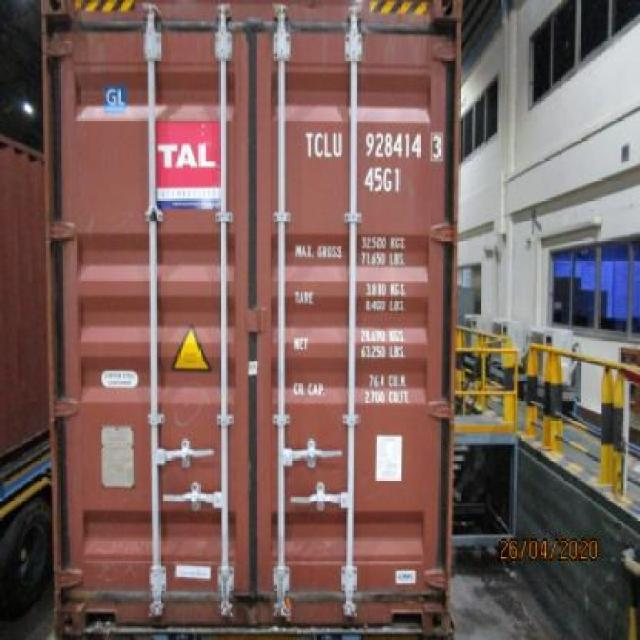ISO: (362, 164, 403, 194)
container_number: (304, 130, 442, 162)
